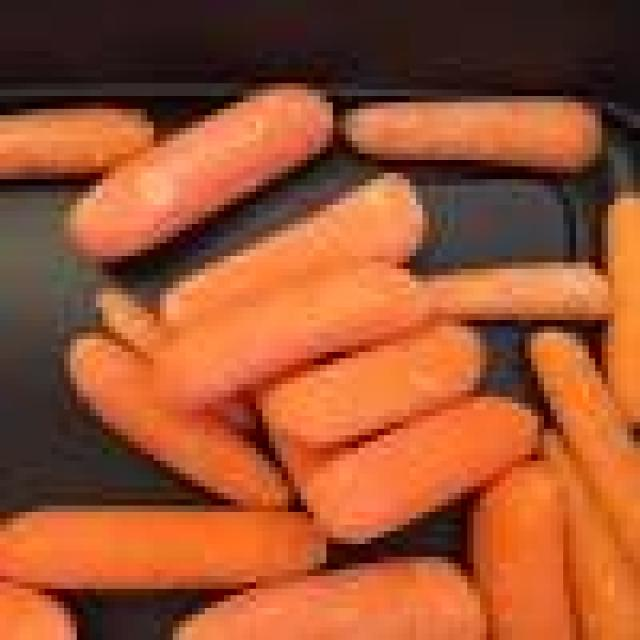Fresh_Carrot: (9, 64, 640, 640)
